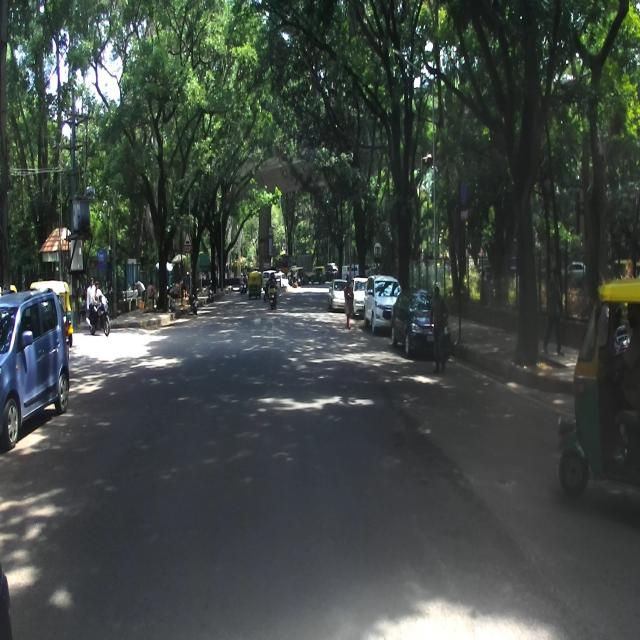Car: (389, 290, 451, 358)
Car_Maruti-Suzuki: (0, 287, 69, 450)
autorickshaw: (555, 279, 640, 498)
